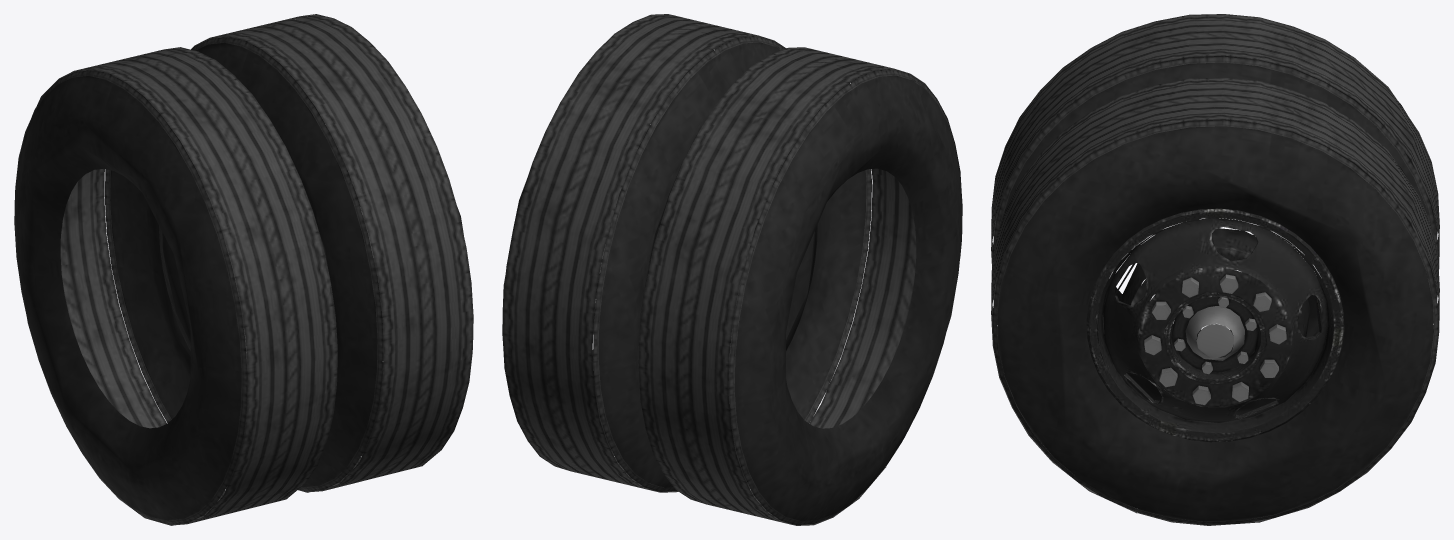
Rendered from tm_wheel_a3_R.glb.
The picture shows the model from 3 angles, left to right: view 1: azimuth 30°, elevation 25°; view 2: azimuth 150°, elevation 25°; view 3: azimuth 270°, elevation 25°; orthographic projection. The views are drawn at different scales.
Visible parts, largest first — view 1: wheel_(3, 1); view 2: wheel_(3, 1); view 3: wheel_(3, 1).
Part boxes in pixels (<box>): wheel_(3, 1): <box>14,14,473,525</box>; wheel_(3, 1): <box>502,14,962,525</box>; wheel_(3, 1): <box>991,14,1439,525</box>.
Bounding box in the file's own units: 63.95 × 90.33 × 90.33.
Materials: 1 (1 with a texture image).
